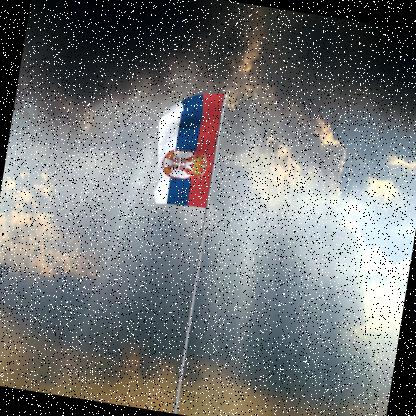rs: (147, 86, 224, 213)
